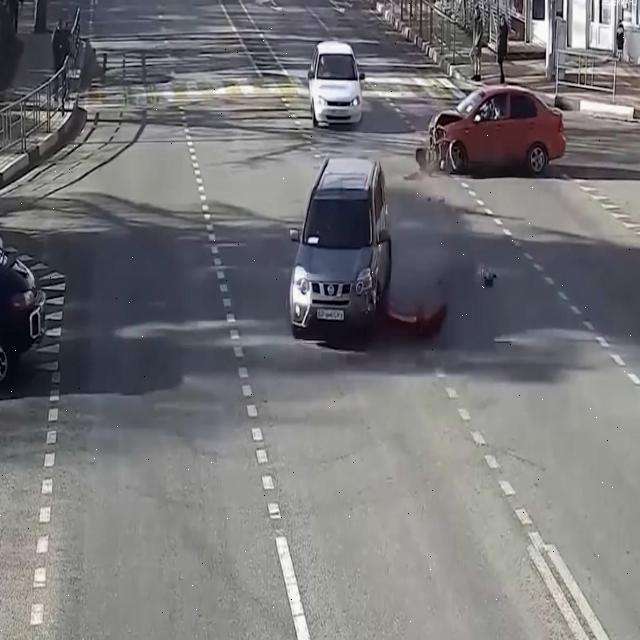accident: (280, 157, 459, 355), (412, 70, 569, 182)
